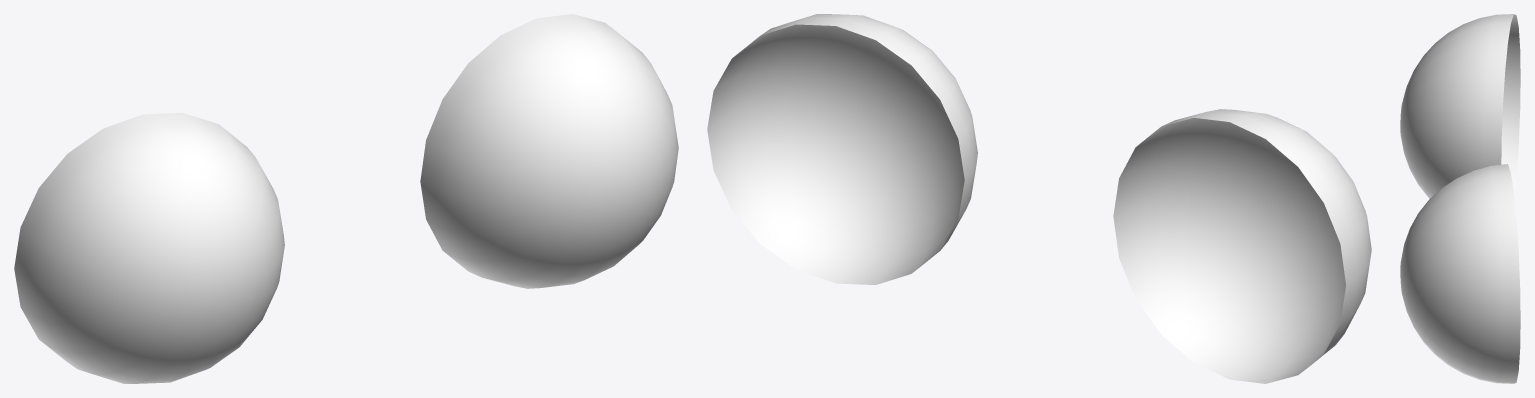
The model's file is african_head_eye_outer.obj.
The picture shows the model from 3 angles, left to right: view 1: azimuth 30°, elevation 25°; view 2: azimuth 150°, elevation 25°; view 3: azimuth 270°, elevation 25°; orthographic projection. The views are drawn at different scales.
Visible parts, largest first — view 1: eyeOutter; view 2: eyeOutter; view 3: eyeOutter.
Boxes of the visible parts, x1,y1,x2,y2 form: eyeOutter: (14,14,678,383); eyeOutter: (707,14,1371,383); eyeOutter: (1400,14,1520,383).
Bounding box in the file's own units: 0.6074 × 0.2338 × 0.1268.
1 material, 1 textured.
